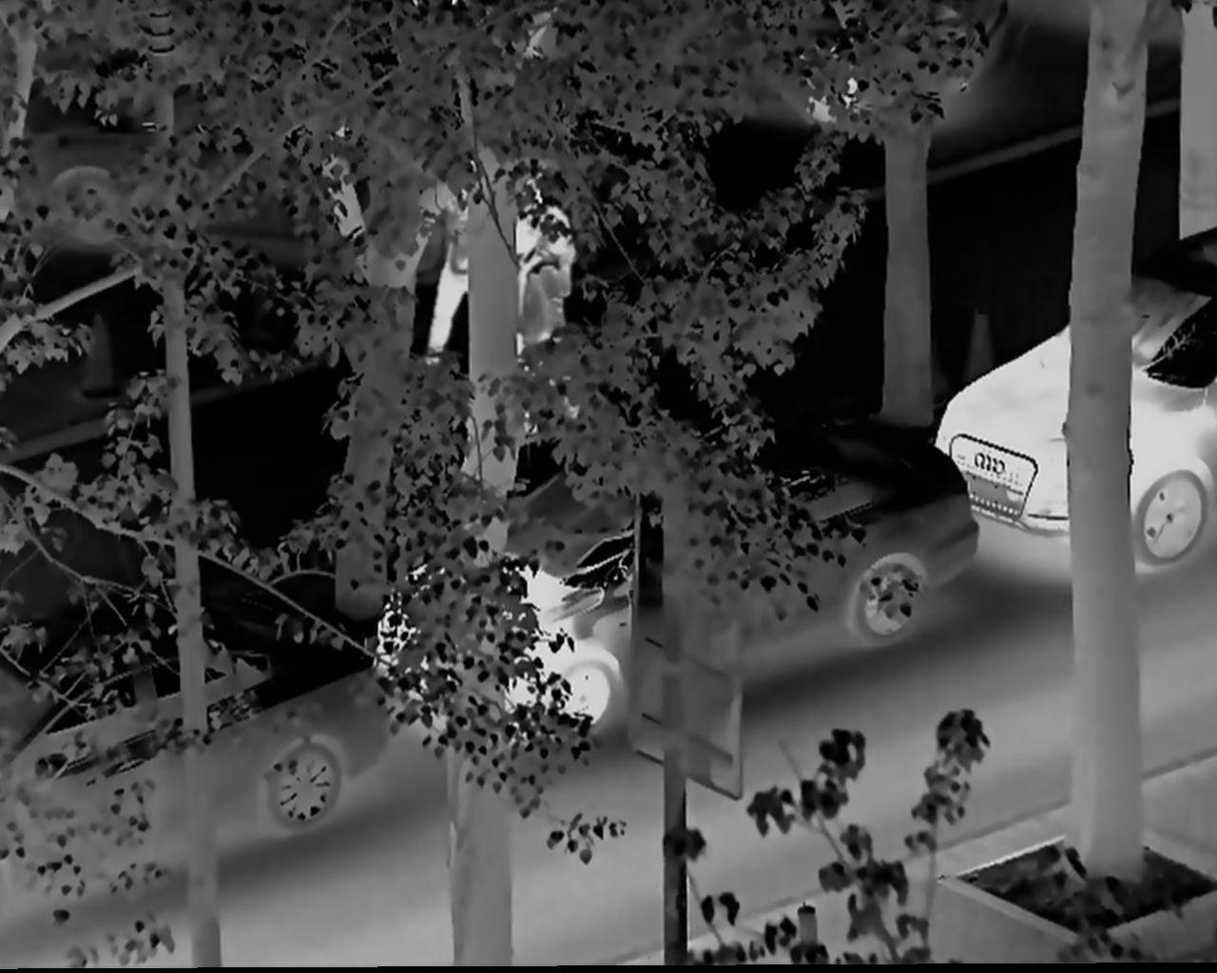person: (516, 205, 586, 406)
